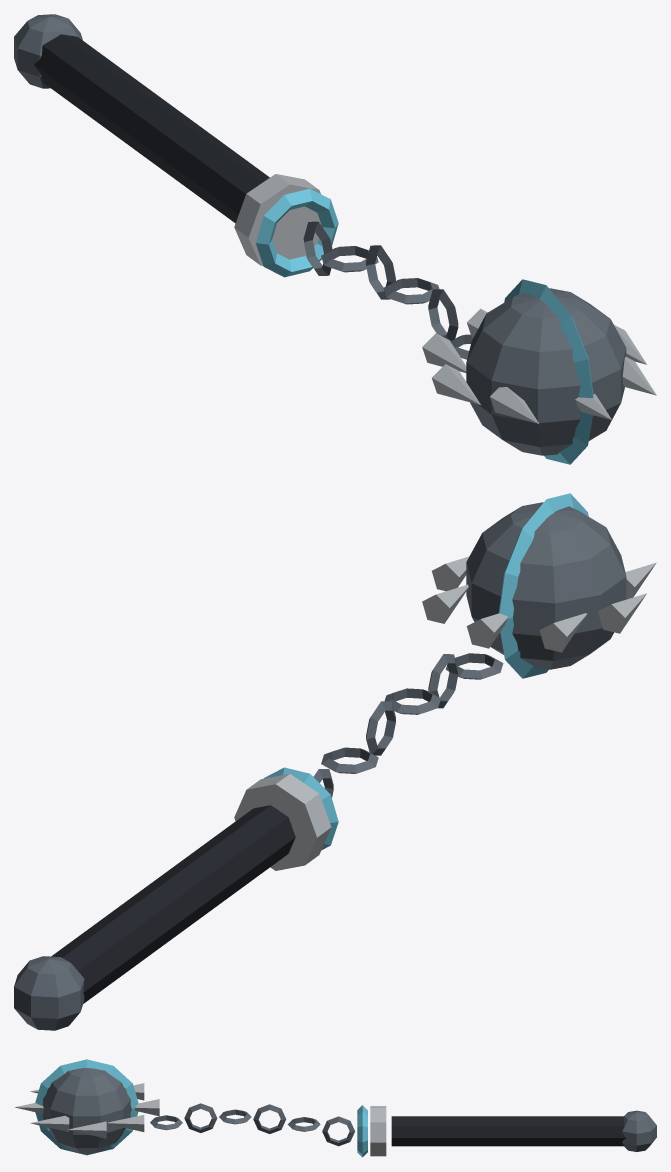
File: vibroflail.glb
3 views of the same model, one above another, from view 1: azimuth 30°, elevation 25°; view 2: azimuth 150°, elevation 25°; view 3: azimuth 270°, elevation 25° (orthographic). The views are drawn at different scales.
Parts seen in each view (by area): view 1: m; view 2: m; view 3: m.
Part boxes in pixels (box(x1,y1,x2,y2)): m: box(14, 14, 656, 464); m: box(14, 493, 656, 1030); m: box(15, 1059, 656, 1157).
Size of the model in its own units: 0.0884 by 0.0758 by 0.46.
